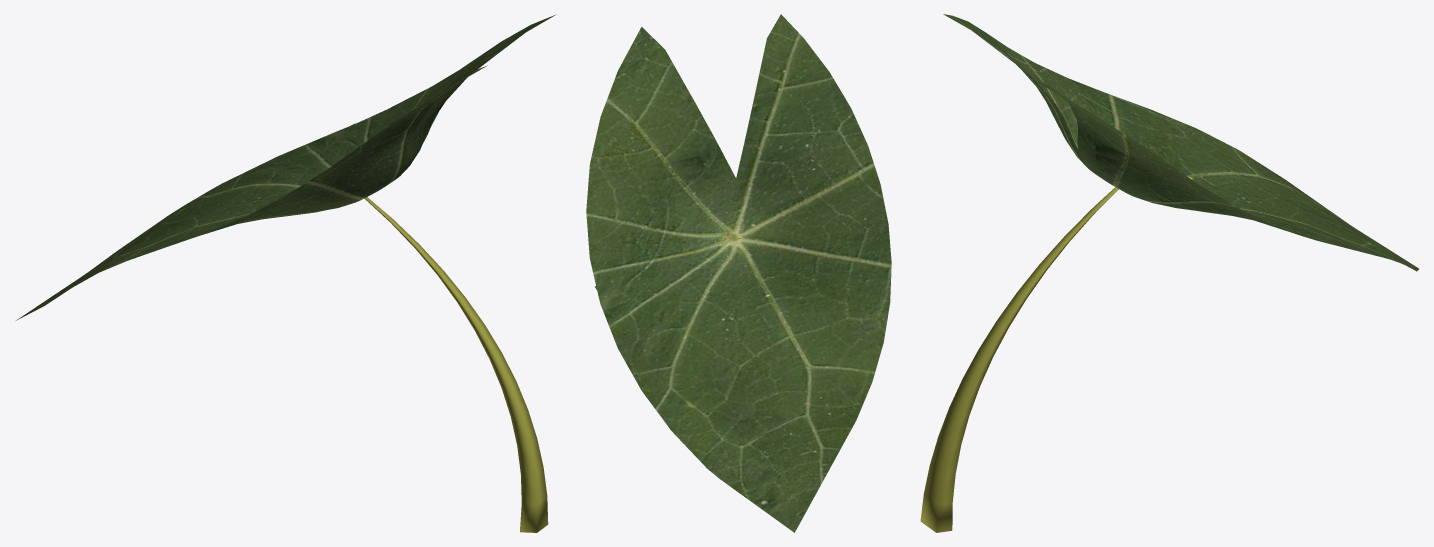
File: Leaf_4.dae
3 views of the same model, side by side, from view 1: azimuth 30°, elevation 25°; view 2: azimuth 150°, elevation 25°; view 3: azimuth 270°, elevation 25° (orthographic). The views are drawn at different scales.
Visible parts, largest first — view 1: group_2, group_1; view 2: group_2; view 3: group_2, group_1.
Part boxes in pixels (<box>): group_2: <box>16,14,556,320</box>; group_1: <box>364,197,548,532</box>; group_2: <box>586,14,891,532</box>; group_2: <box>943,14,1418,271</box>; group_1: <box>920,187,1118,532</box>.
Bounding box in the file's own units: 8.57 × 9.75 × 10.62.
2 materials, 1 textured.
